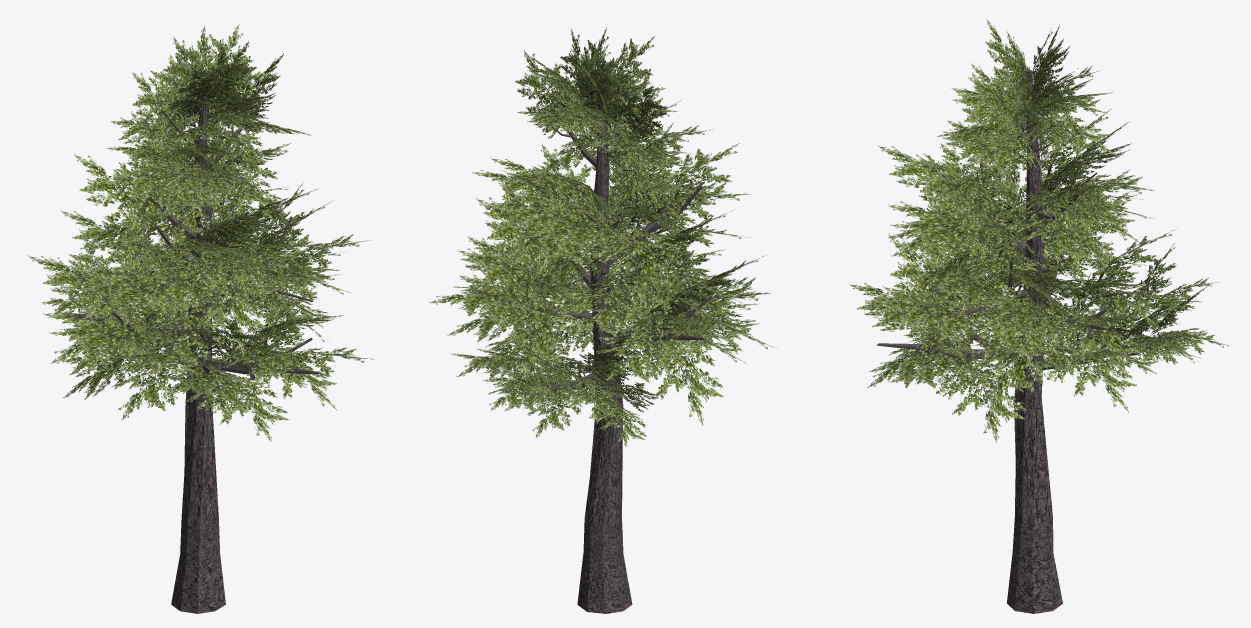
The model's file is fir_tree.fbx.
The picture shows the model from 3 angles, left to right: view 1: azimuth 30°, elevation 25°; view 2: azimuth 150°, elevation 25°; view 3: azimuth 270°, elevation 25°; orthographic projection. The views are drawn at different scales.
Visible parts, largest first — view 1: pPlane36; view 2: pPlane36; view 3: pPlane36.
Boxes of the visible parts, <box> form: pPlane36: <box>28,24,374,613</box>; pPlane36: <box>429,27,776,613</box>; pPlane36: <box>849,19,1229,613</box>.
Size of the model in its own units: 6.61 by 11.22 by 7.24.
